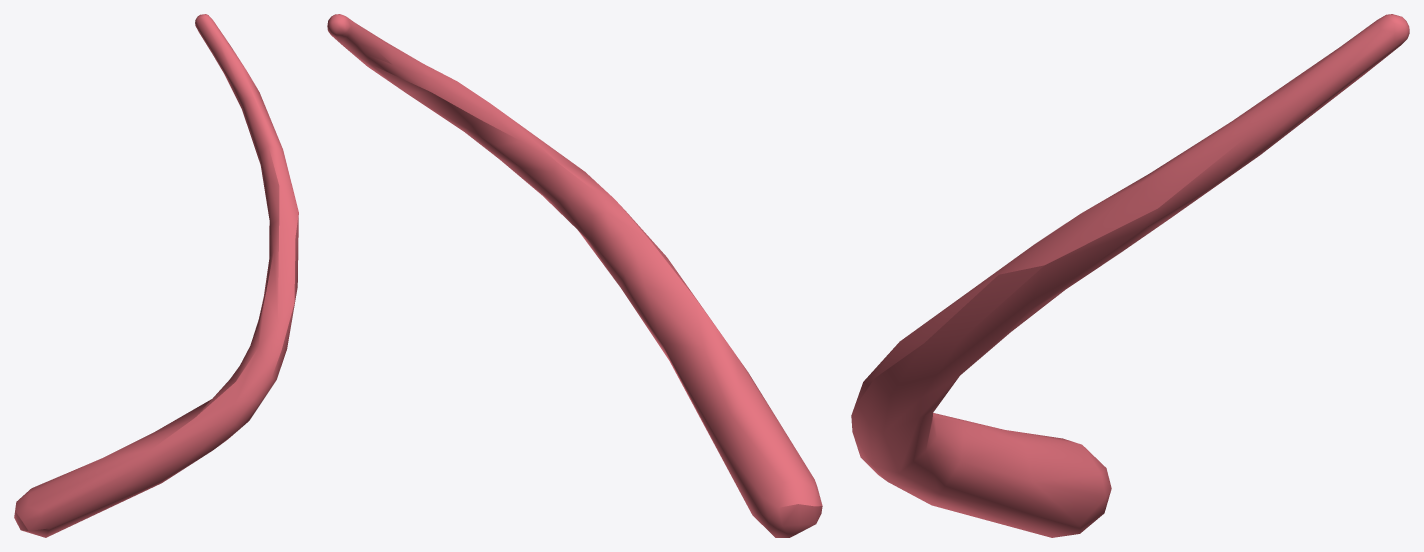
File: fma13281_fj5981.glb
3 renders of one model, left to right at view 1: azimuth 30°, elevation 25°; view 2: azimuth 150°, elevation 25°; view 3: azimuth 270°, elevation 25°, orthographic. The views are drawn at different scales.
Parts seen in each view (by area): view 1: FMA13281_FJ5981; view 2: FMA13281_FJ5981; view 3: FMA13281_FJ5981.
Part boxes in pixels (x1,y1,x2,y2): FMA13281_FJ5981: (14, 14, 298, 537); FMA13281_FJ5981: (327, 14, 822, 537); FMA13281_FJ5981: (851, 14, 1409, 537).
Bounding box in the file's own units: 0.0358 × 0.0463 × 0.0313.
